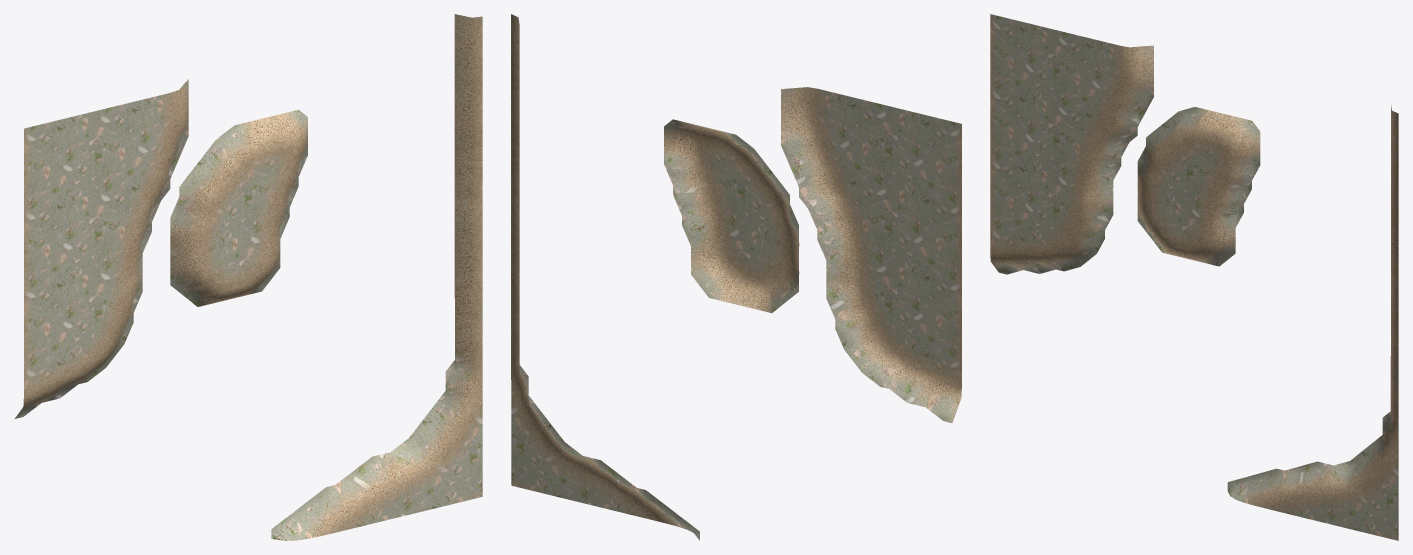
Rendered from terrain.obj.
3 renders of one model, left to right at view 1: azimuth 30°, elevation 25°; view 2: azimuth 150°, elevation 25°; view 3: azimuth 330°, elevation 25°, orthographic. The views are drawn at different scales.
Parts seen in each view (by area): view 1: pPlane2; view 2: pPlane2; view 3: pPlane2.
Part boxes in pixels (<box>): pPlane2: <box>14,14,482,540</box>; pPlane2: <box>511,14,961,540</box>; pPlane2: <box>990,14,1398,540</box>.
Size of the model in its own units: 250 by 250 by 9.23.
